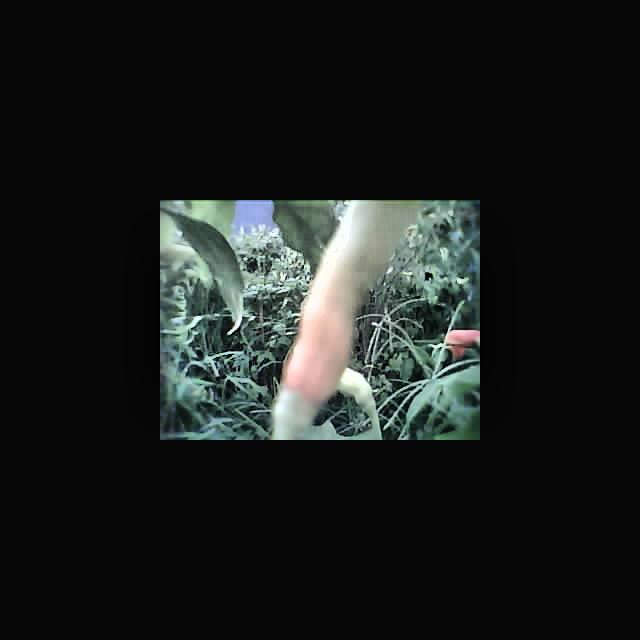Cabai: (281, 201, 410, 412), (443, 330, 480, 350)
